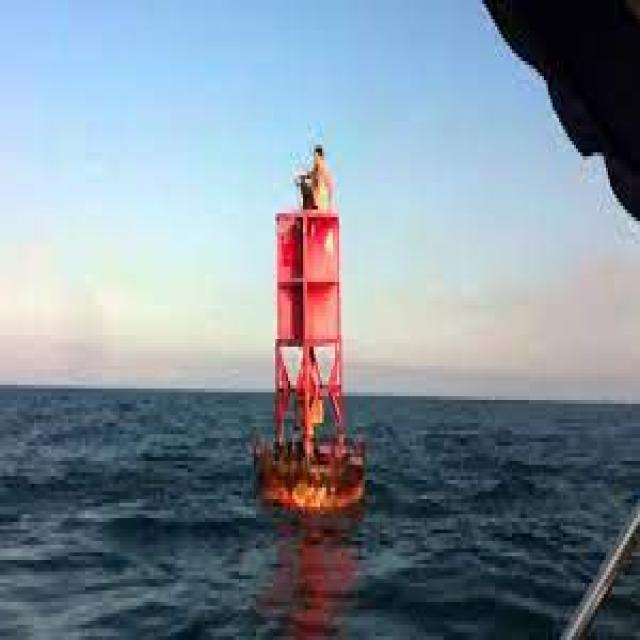marque: (253, 195, 378, 524)
